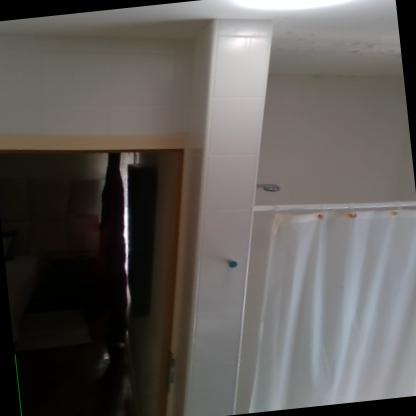open: (0, 113, 236, 415)
